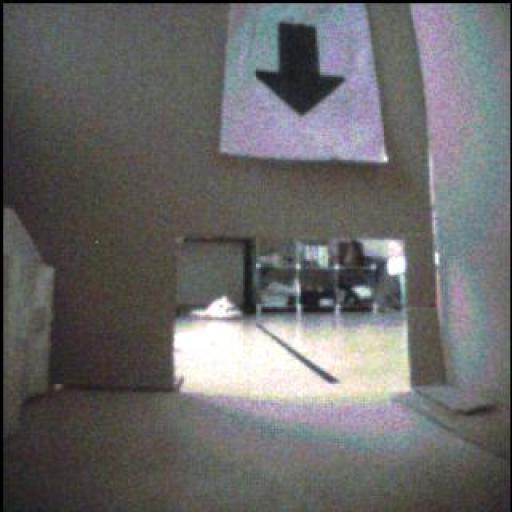arrow: (257, 24, 345, 117)
